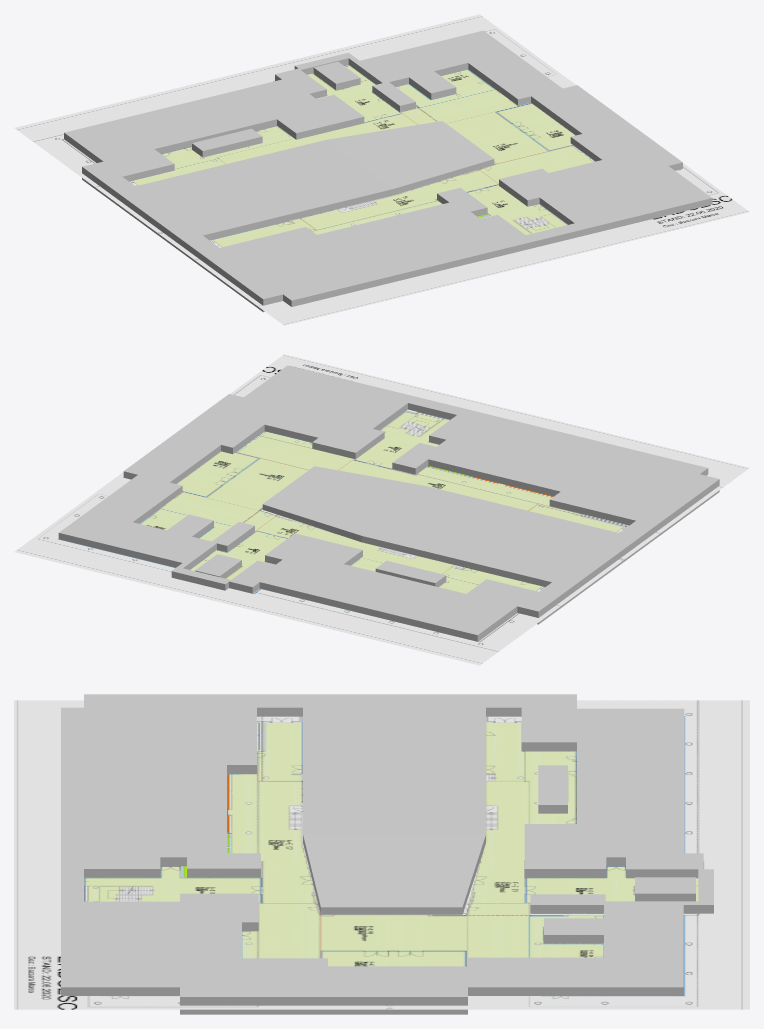
The model's file is t01mapscale.fbx.
The picture shows the model from 3 angles, top to bottom: view 1: azimuth 30°, elevation 25°; view 2: azimuth 150°, elevation 25°; view 3: azimuth 270°, elevation 25°; orthographic projection. The views are drawn at different scales.
Visible parts, largest first — view 1: Cube.001, Plane; view 2: Cube.001, Plane; view 3: Cube.001, Plane.
Boxes of the visible parts, x1=… form: Cube.001: x1=64, y1=30, x2=712, y2=312; Plane: x1=14, y1=14, x2=749, y2=325; Cube.001: x1=58, y1=365, x2=719, y2=641; Plane: x1=14, y1=354, x2=749, y2=665; Cube.001: x1=61, y1=694, x2=713, y2=1014; Plane: x1=14, y1=700, x2=749, y2=1009.
Size of the model in its own units: 7508 by 200 by 7546.
